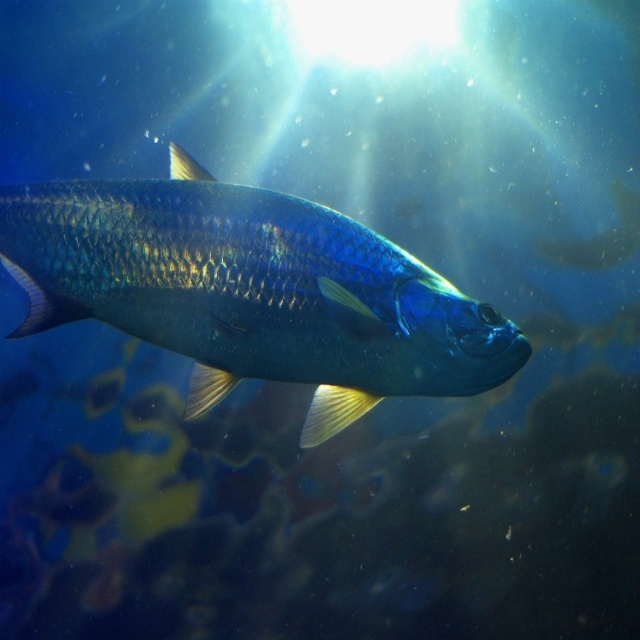Fish: (0, 146, 532, 452)
